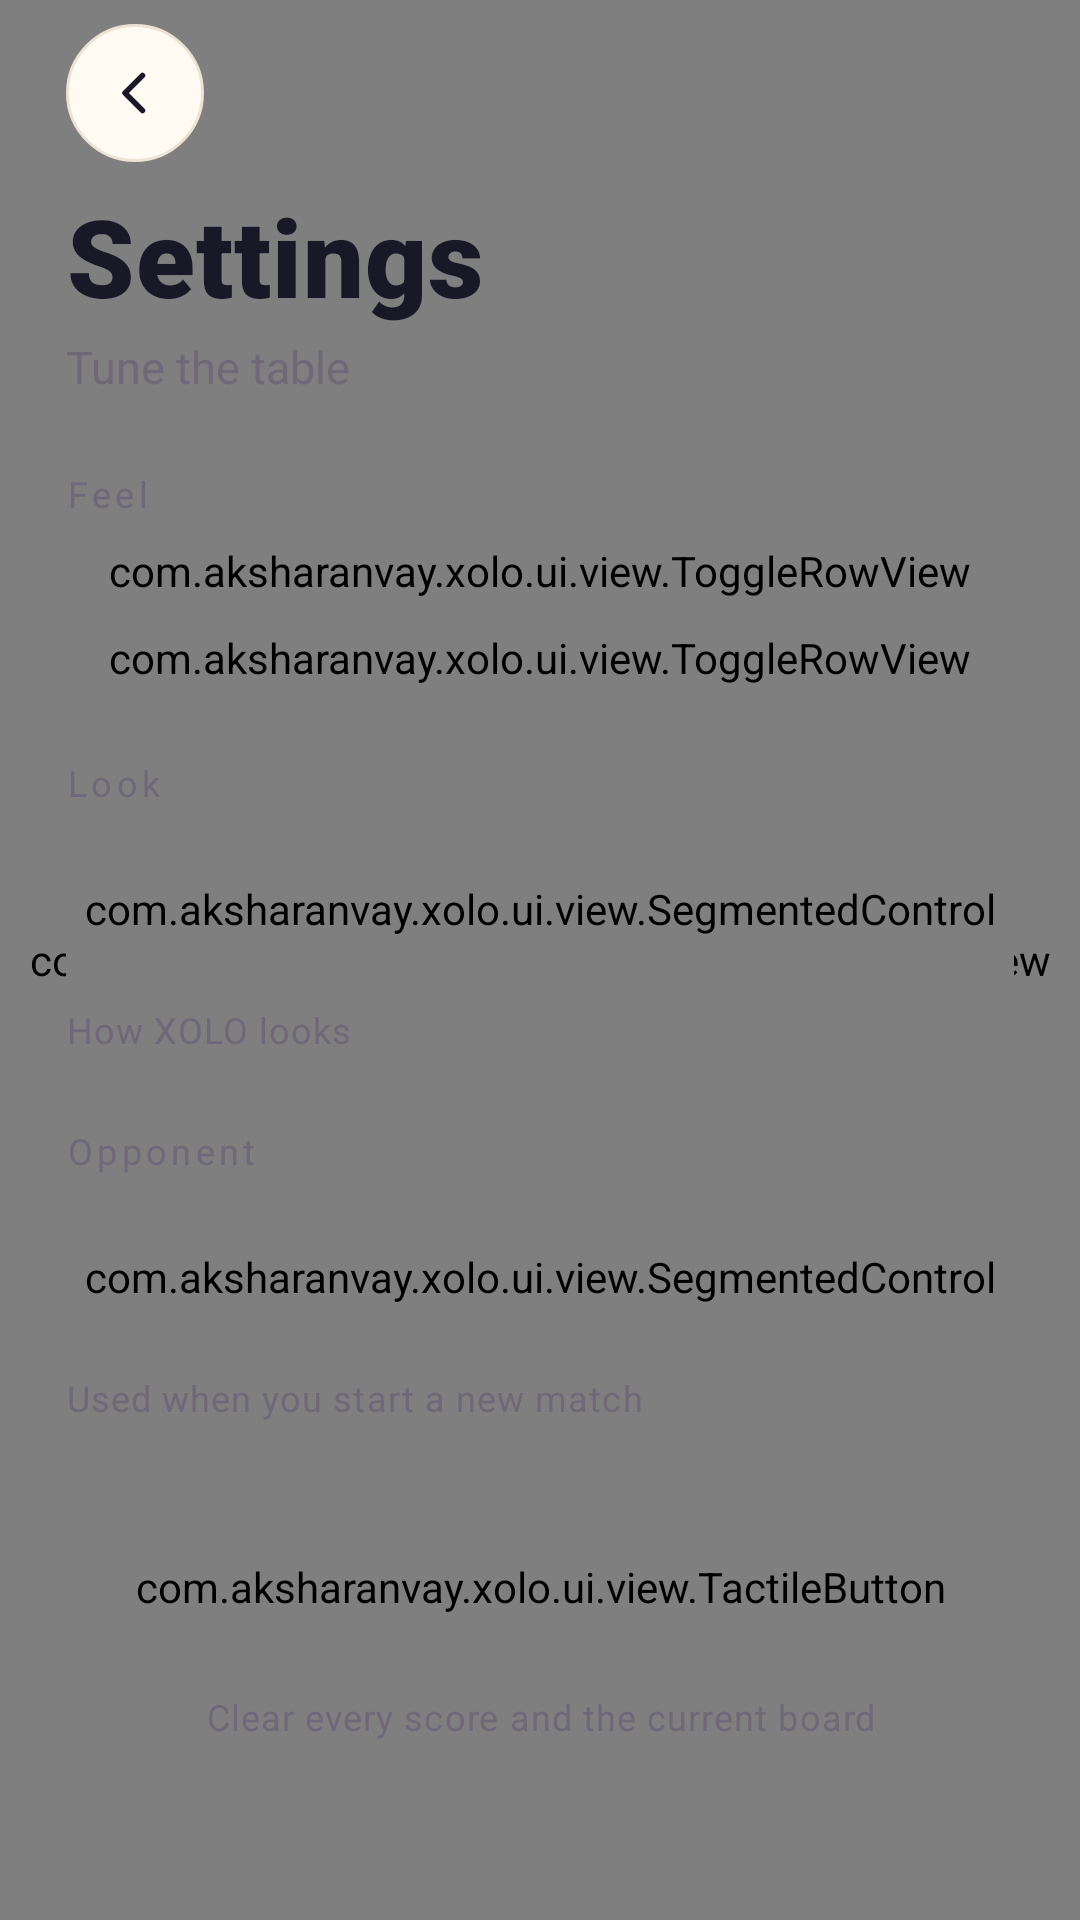

Locate icon controls on the screen. Image size 1080px×1920px, boxes as [x1=x1, y1=y1, x2=x2, y2=y2].
Back: [x1=66, y1=24, x2=204, y2=162]
